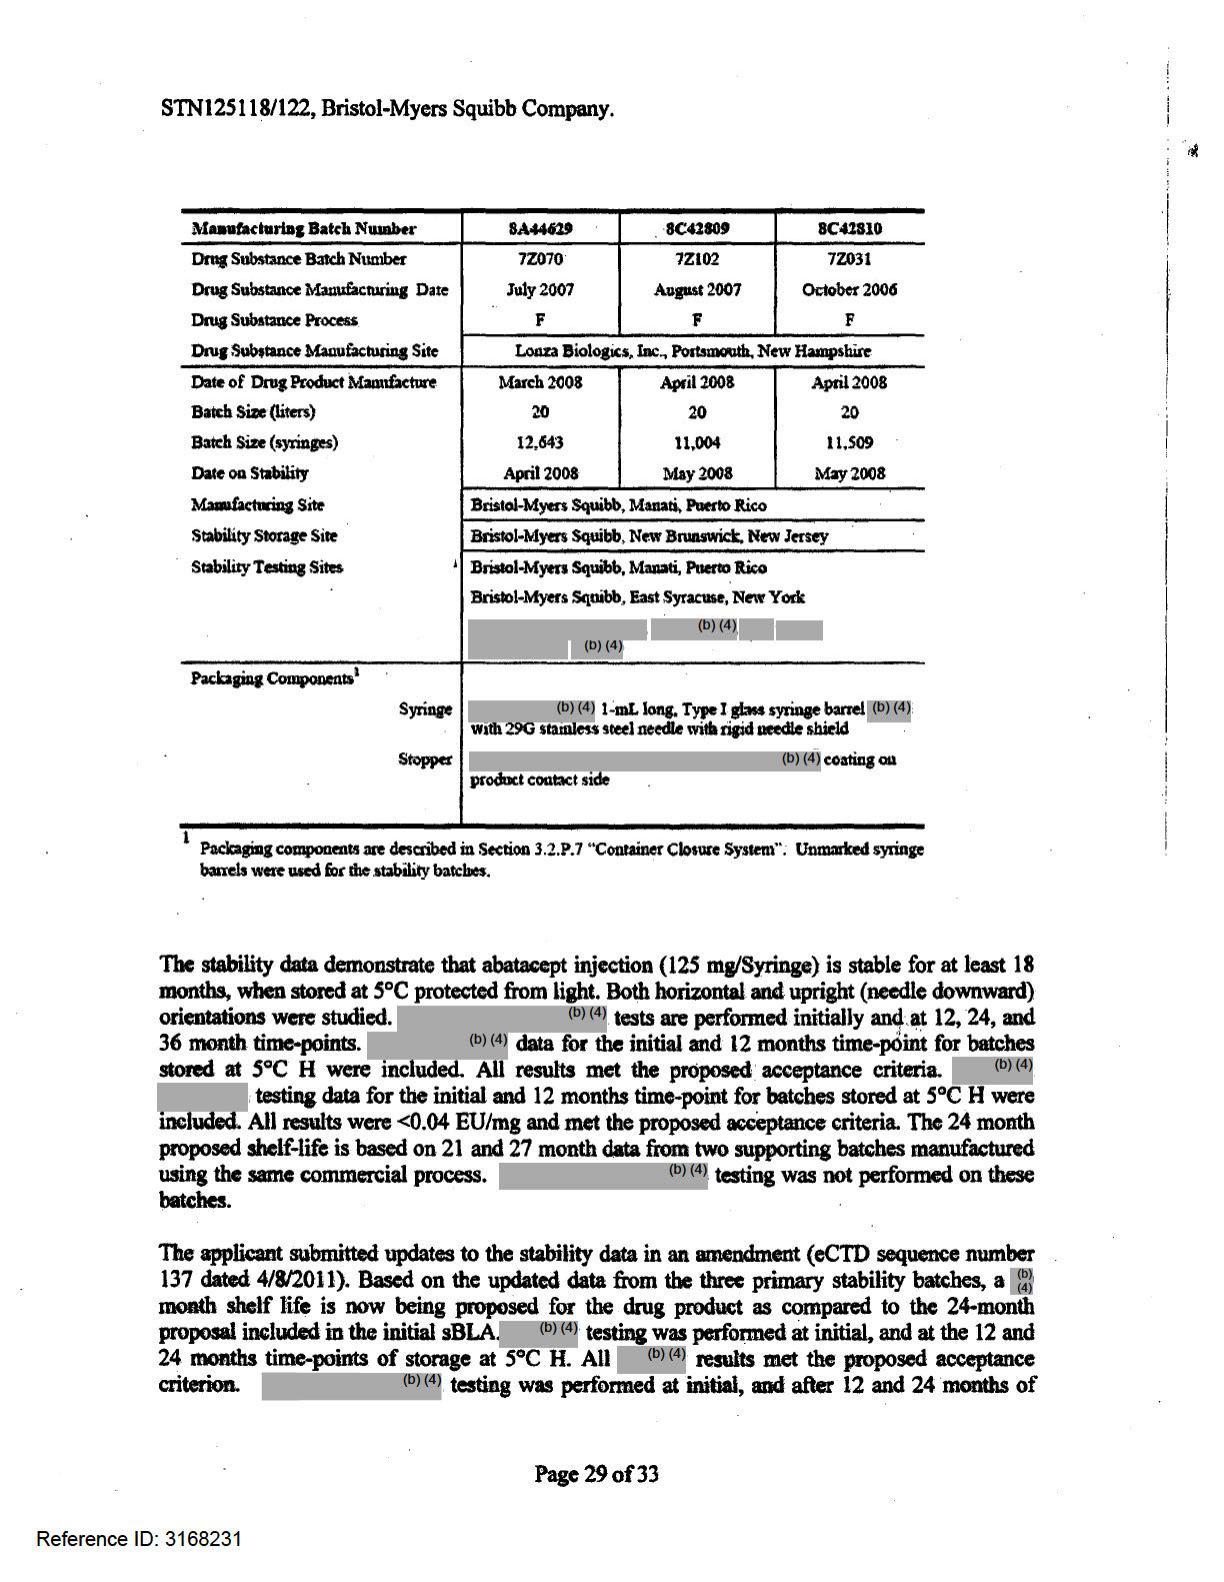partial_lined_merged_cells: (177, 205, 929, 830)
